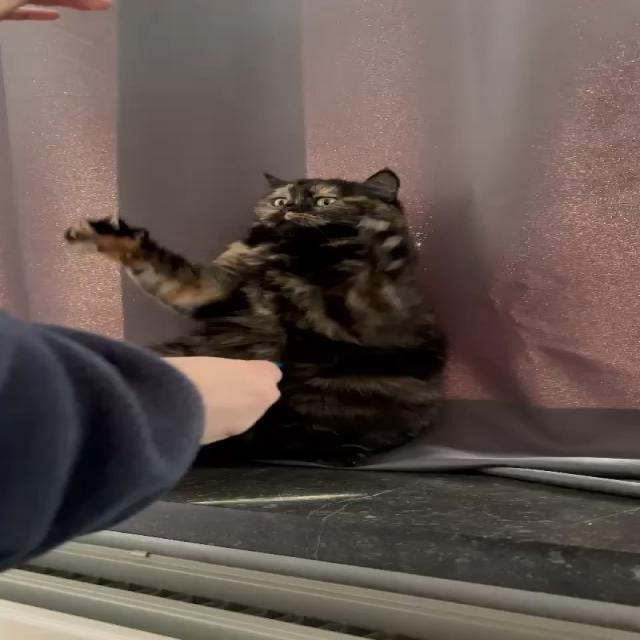authorized: (62, 166, 618, 468)
